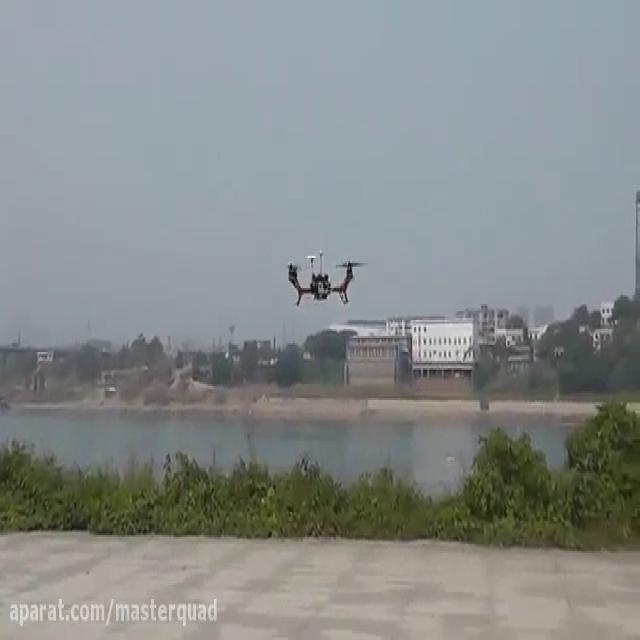drone: (283, 247, 370, 309)
